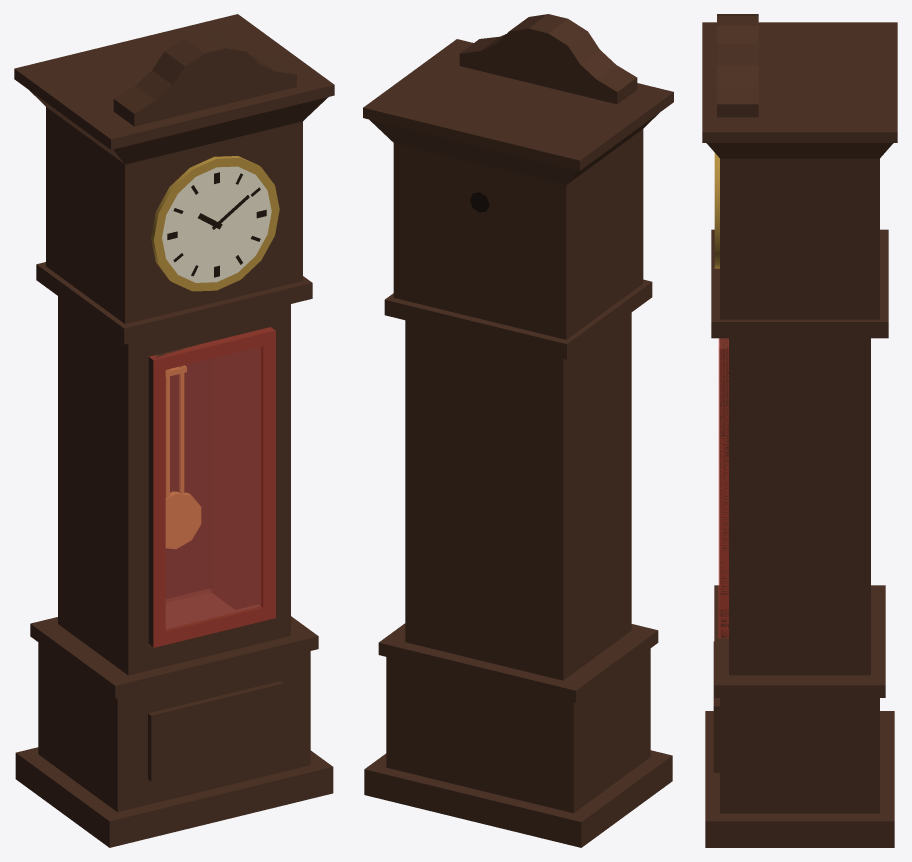
The model's file is ClockG01.glb.
The picture shows the model from 3 angles, left to right: view 1: azimuth 30°, elevation 25°; view 2: azimuth 150°, elevation 25°; view 3: azimuth 270°, elevation 25°; orthographic projection. The views are drawn at different scales.
Parts seen in each view (by area): view 1: Body_Wood, Col_TrunkDoor, TrunkDoor_Wood, Body_ClockFace, Body_WoodDark, Body_Brass, Pendulum_Brass; view 2: Body_Wood; view 3: Body_Wood, Col_TrunkDoor, TrunkDoor_Wood, Body_Brass.
Part boxes in pixels (x1,y1,x2,y2): Body_Wood: [14, 14, 334, 847]; Col_TrunkDoor: [149, 327, 275, 647]; TrunkDoor_Wood: [148, 327, 275, 647]; Body_ClockFace: [162, 166, 271, 282]; Body_WoodDark: [165, 172, 266, 598]; Body_Brass: [151, 156, 279, 291]; Pendulum_Brass: [165, 365, 201, 549]; Body_Wood: [363, 14, 673, 847]; Body_Wood: [702, 14, 897, 847]; Col_TrunkDoor: [718, 338, 728, 637]; TrunkDoor_Wood: [719, 338, 728, 638]; Body_Brass: [714, 153, 719, 268].
Bounding box in the file's own units: 2.2 × 7.2 × 1.65.
